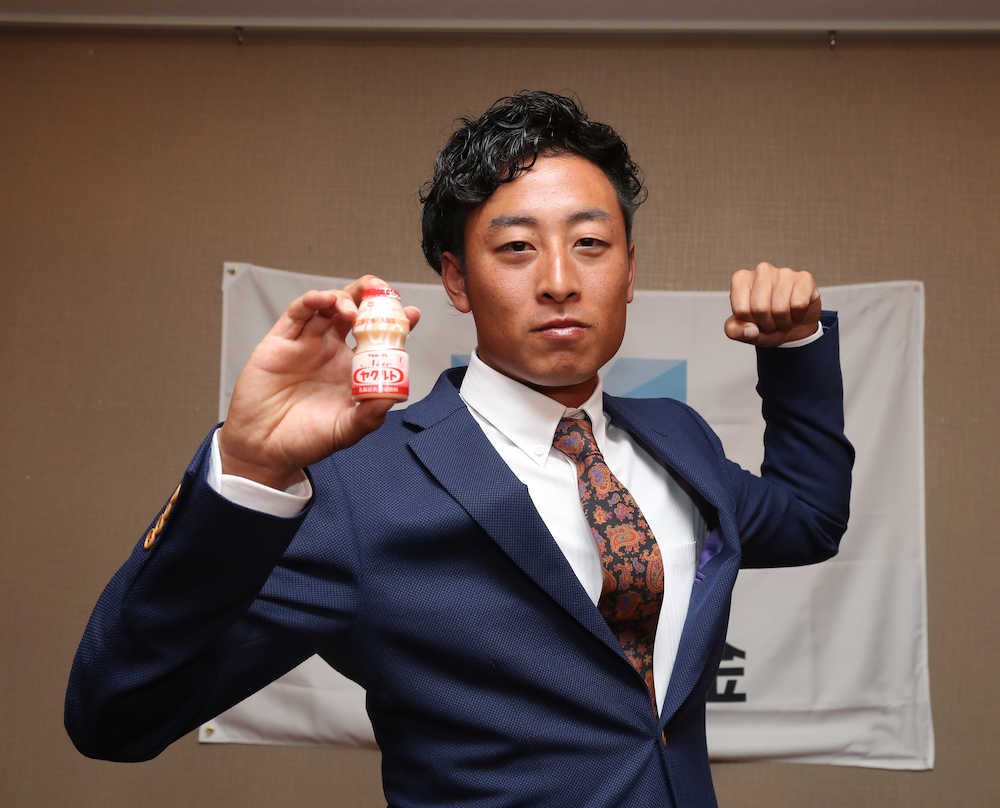face: (422, 152, 639, 387)
hand: (221, 272, 419, 477), (723, 264, 822, 345)
